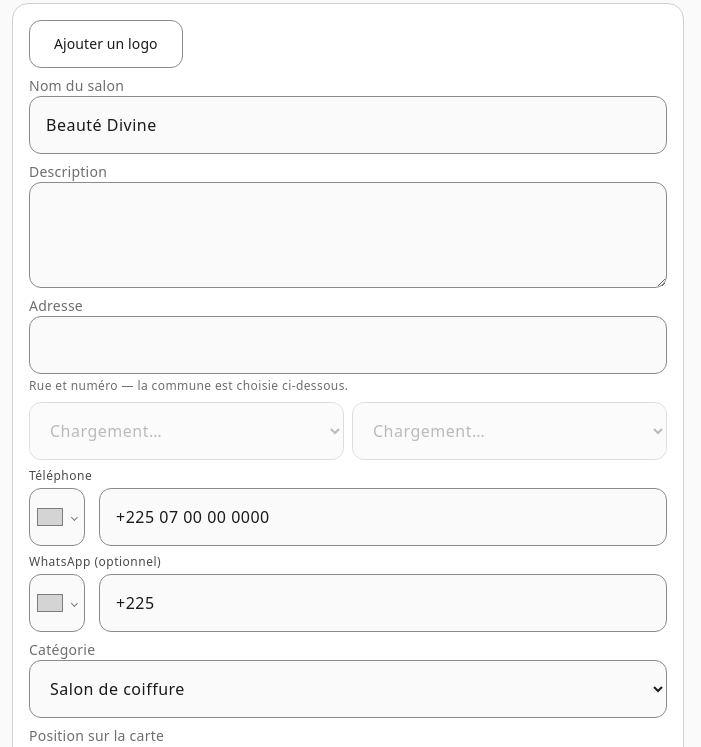
Test: ProfilClient — Téléphone and WhatsApp › 7 digits after +225 are refused under « Téléphone » — nothing is saved
The image size is (701, 747).
Replace the text in the field labelled "Téléphone" with "+2250700000" at (383, 517), box [99,488,667,546]
(page scrolled)
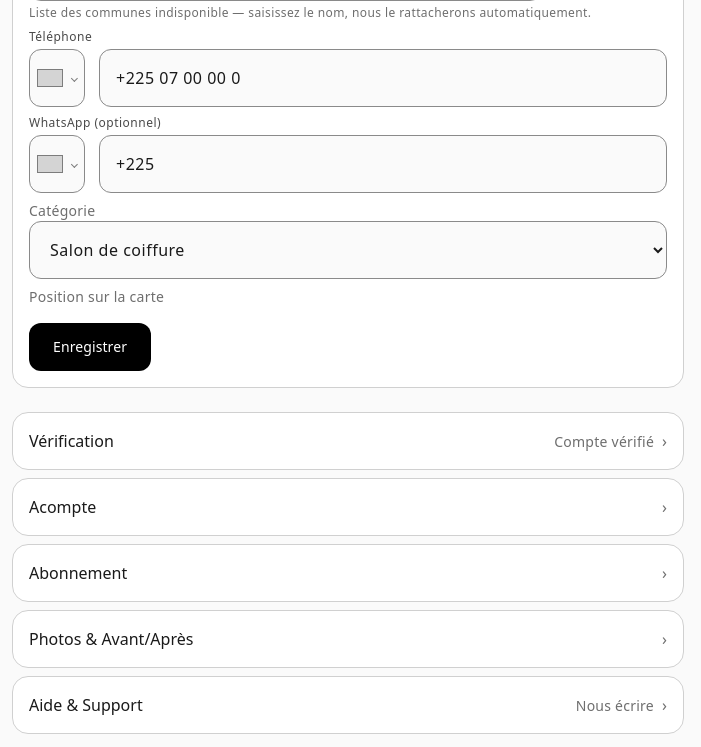
Click the button "Enregistrer" at (90, 347), box [29,323,151,371]
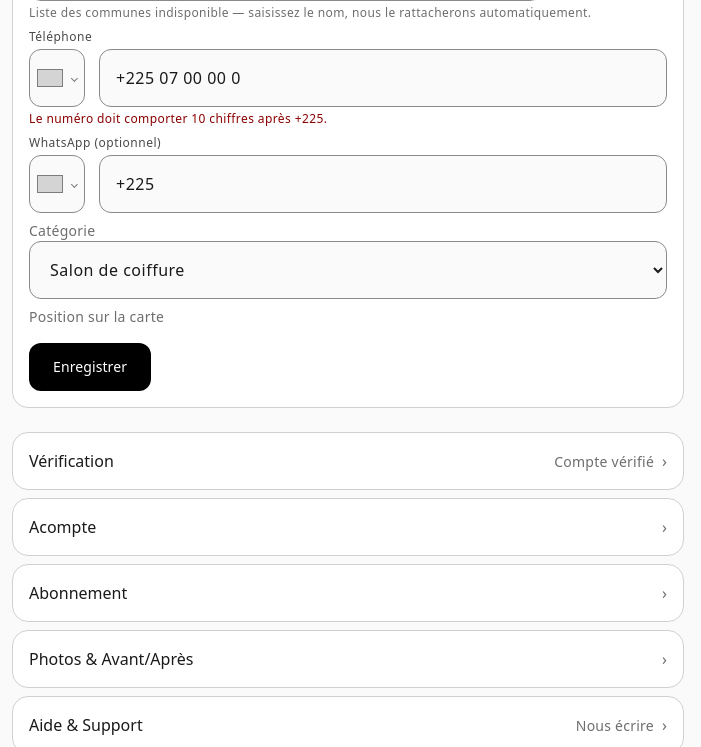
Expected: the text "Le numéro doit comporter 10 chiffres après +225." is shown, [29,110,327,127]
